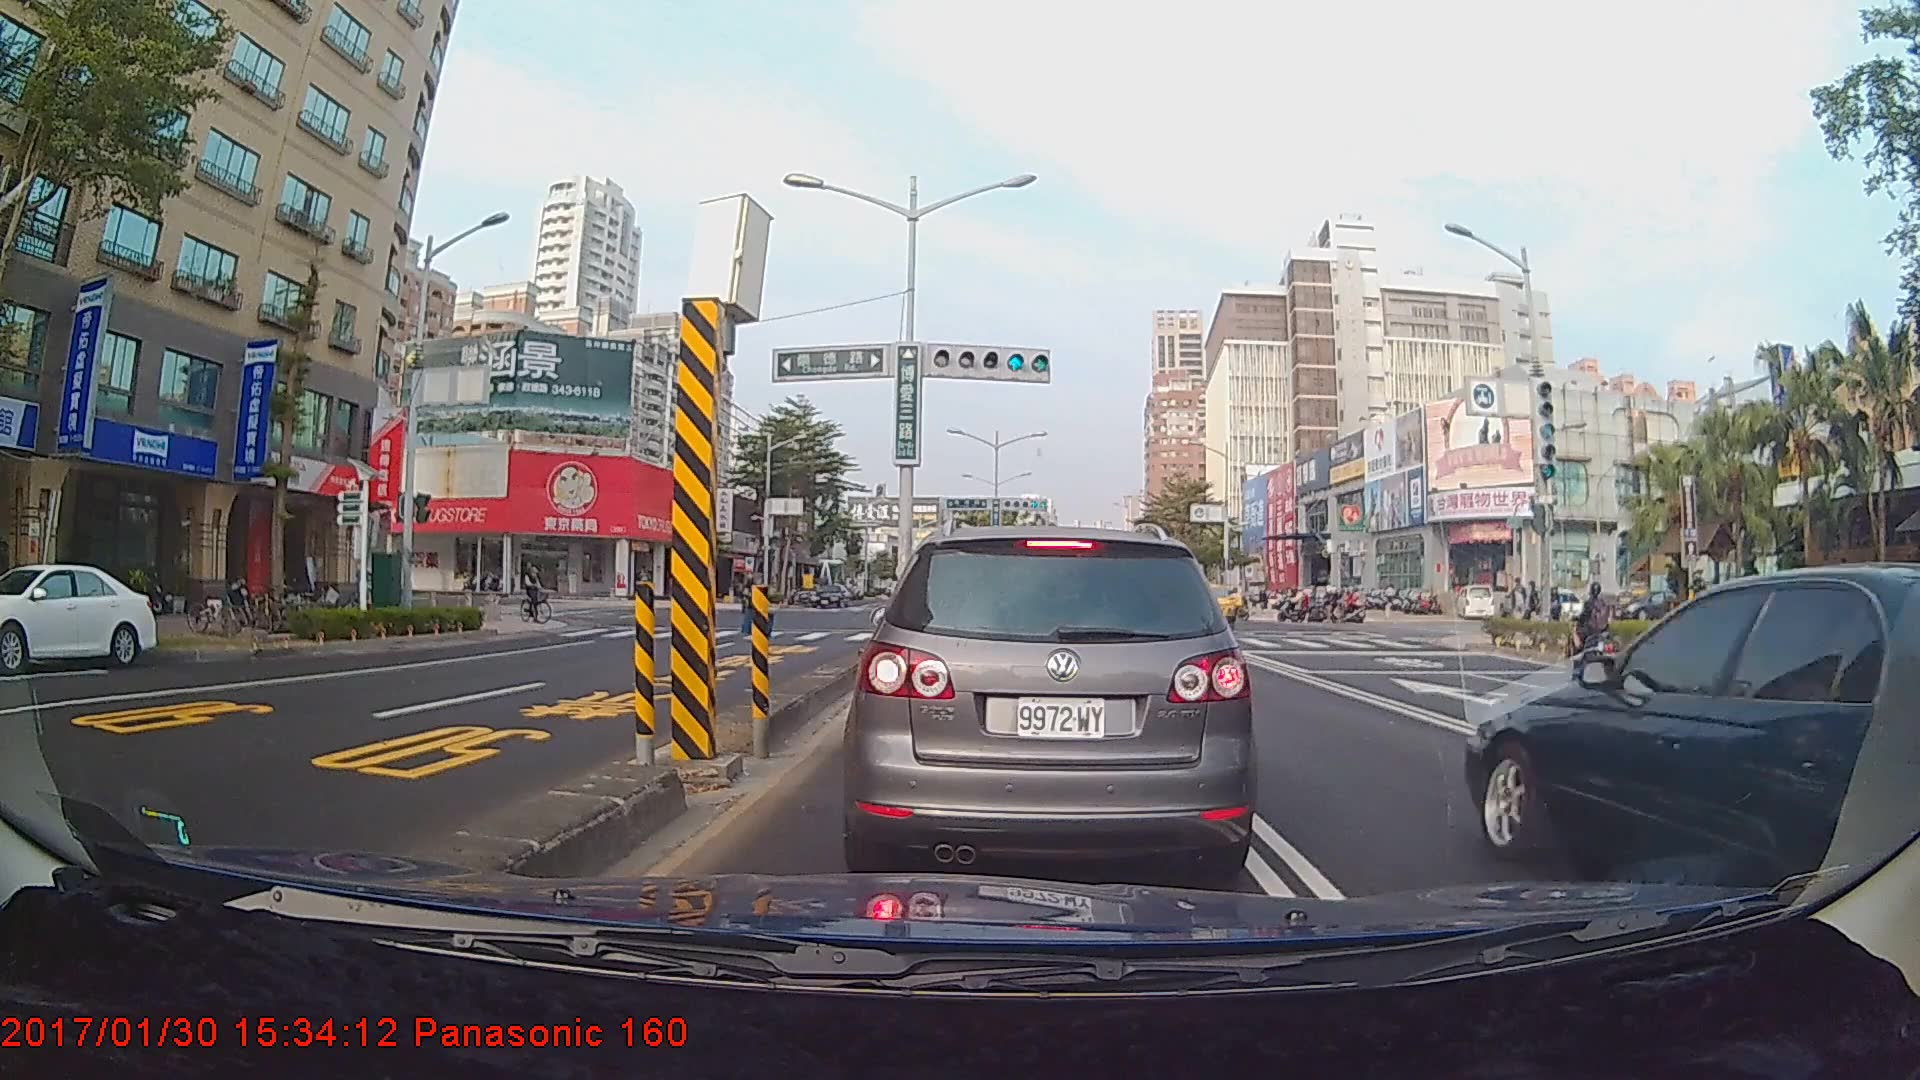rider: (1563, 580, 1620, 680), (518, 559, 561, 629)
vehicle: (1464, 577, 1920, 911), (854, 518, 1252, 877), (0, 561, 160, 671), (811, 584, 847, 609)
